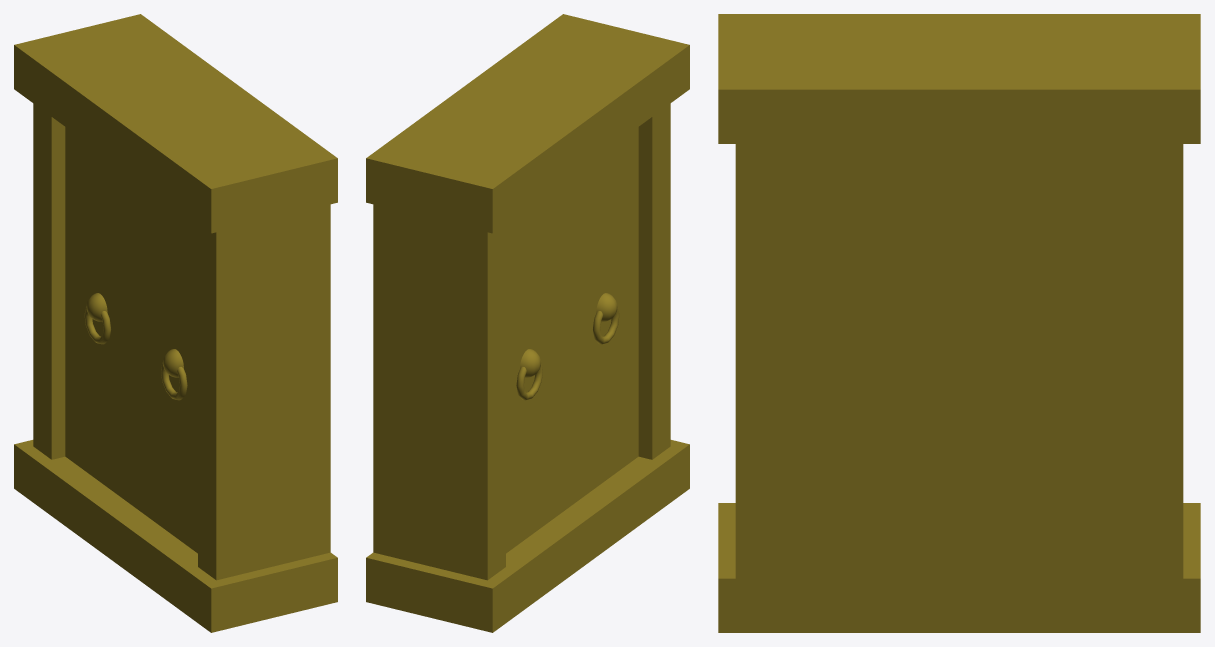
The model's file is Wardrobe.fbx.
The picture shows the model from 3 angles, left to right: view 1: azimuth 30°, elevation 25°; view 2: azimuth 150°, elevation 25°; view 3: azimuth 270°, elevation 25°; orthographic projection. The views are drawn at different scales.
Visible parts, largest first — view 1: w_01, w_03, w_02; view 2: w_01, w_03, w_02; view 3: w_01.
Boxes of the visible parts, x1=… form: w_01: x1=14, y1=14, x2=337, y2=632; w_03: x1=84, y1=305, x2=187, y2=400; w_02: x1=86, y1=293, x2=183, y2=377; w_01: x1=366, y1=14, x2=689, y2=632; w_03: x1=516, y1=305, x2=619, y2=400; w_02: x1=520, y1=293, x2=617, y2=377; w_01: x1=718, y1=14, x2=1200, y2=632.
Bounding box in the file's own units: 2.14 × 7.17 × 5.77.
